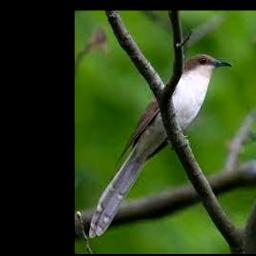Cuckoo: (90, 53, 233, 238)
